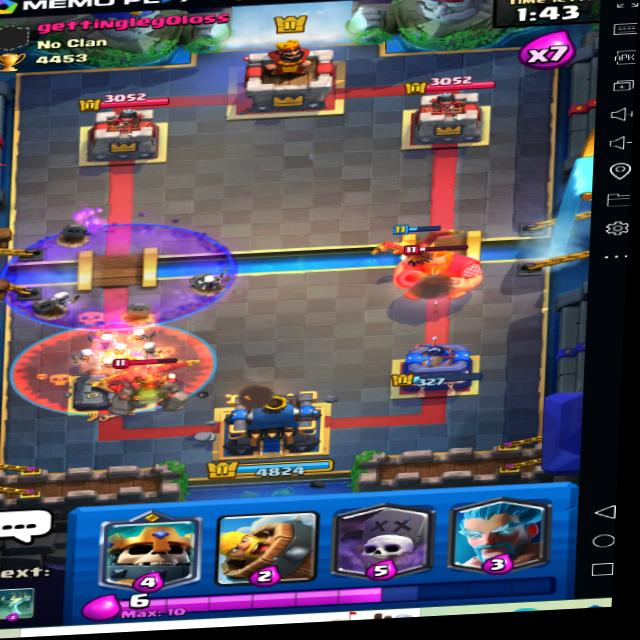Golem: (101, 351, 208, 419)
Royalgiant: (384, 241, 494, 303)
